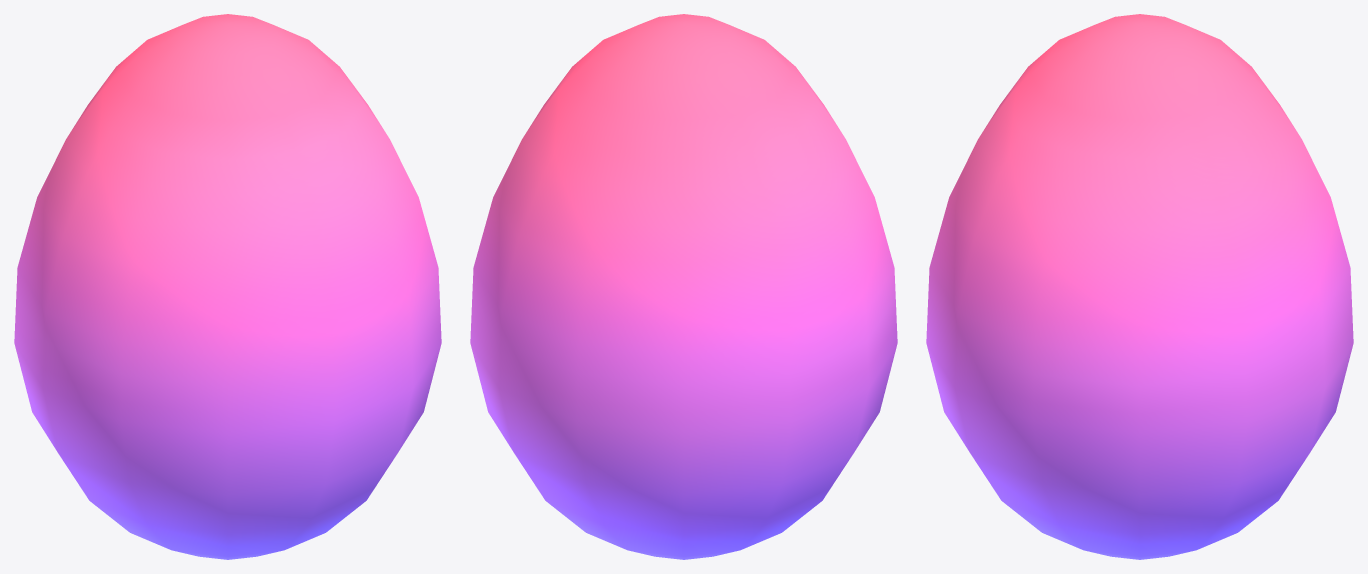
The model's file is EggDinosaurPink.glb.
3 renders of one model, left to right at view 1: azimuth 30°, elevation 25°; view 2: azimuth 150°, elevation 25°; view 3: azimuth 270°, elevation 25°, orthographic.
Visible parts, largest first — view 1: EggDinosaurPink; view 2: EggDinosaurPink; view 3: EggDinosaurPink.
Part boxes in pixels (x1=…): EggDinosaurPink: x1=14, y1=14, x2=441, y2=559; EggDinosaurPink: x1=470, y1=14, x2=897, y2=559; EggDinosaurPink: x1=926, y1=14, x2=1353, y2=559.
Bounding box in the file's own units: 0.9301 × 1.25 × 0.9301.
Materials: 1 (1 with a texture image).
